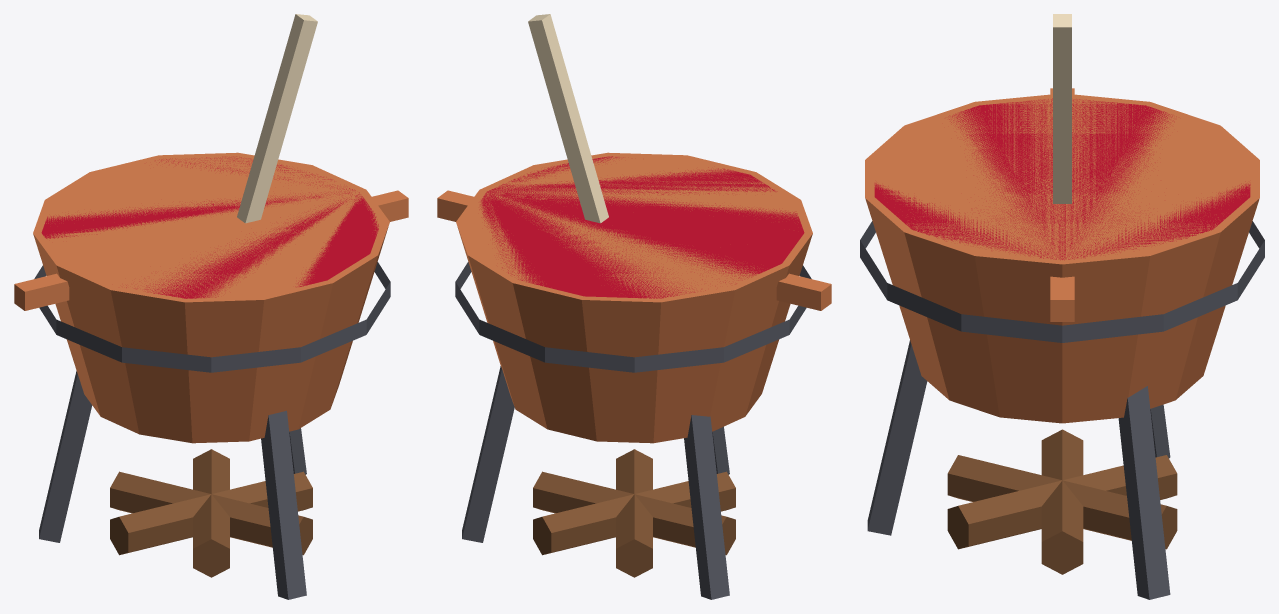
File: jam_pot.obj
3 renders of one model, left to right at view 1: azimuth 30°, elevation 25°; view 2: azimuth 150°, elevation 25°; view 3: azimuth 270°, elevation 25°, orthographic. The views are drawn at different scales.
Visible parts, largest first — view 1: frame, spoon; view 2: frame, spoon; view 3: frame, spoon.
Part boxes in pixels (<box>): frame: <box>14,152,408,599</box>; spoon: <box>237,14,317,223</box>; frame: <box>437,152,831,599</box>; spoon: <box>528,14,608,223</box>; frame: <box>860,88,1264,599</box>; spoon: <box>1053,14,1071,203</box>.
Bounding box in the file's own units: 1.04 × 1.29 × 0.84.
